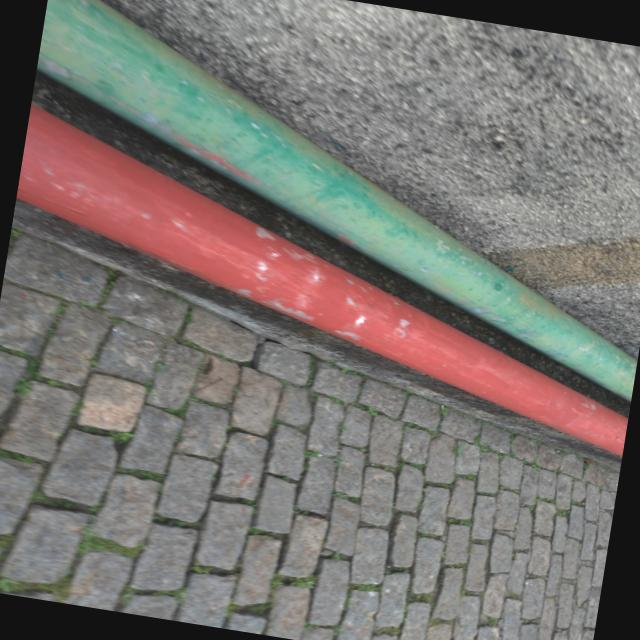gas: (36, 0, 637, 403), (16, 105, 628, 458)
